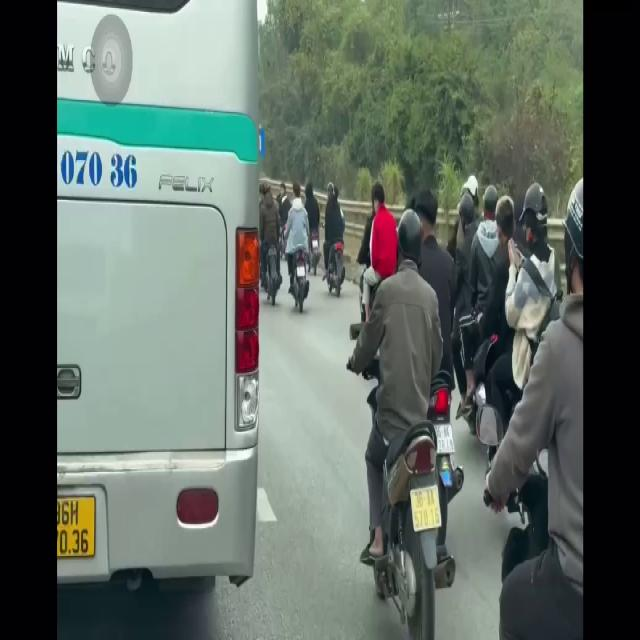helmet: (518, 176, 552, 268), (394, 202, 422, 286)
